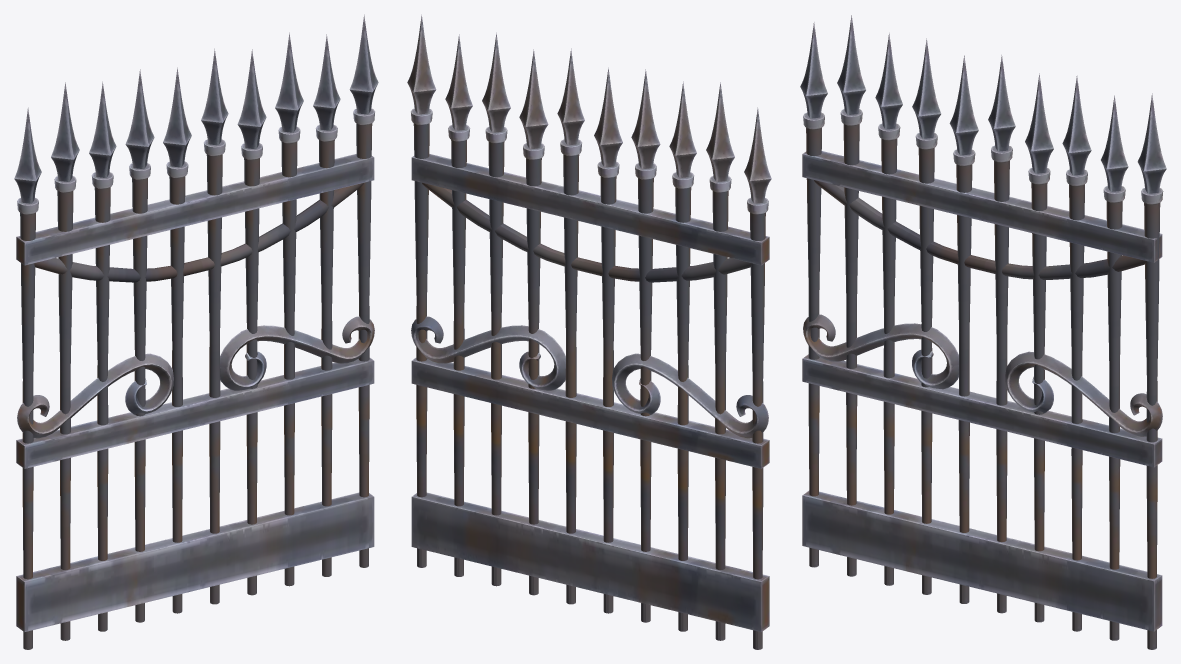
File: fence_metal_ornament.glb
The picture shows the model from 3 angles, left to right: view 1: azimuth 30°, elevation 25°; view 2: azimuth 150°, elevation 25°; view 3: azimuth 330°, elevation 25°; orthographic projection.
Bounding box in the file's own units: 1.95 × 2.85 × 0.156.
Materials: 1 (1 with a texture image).
